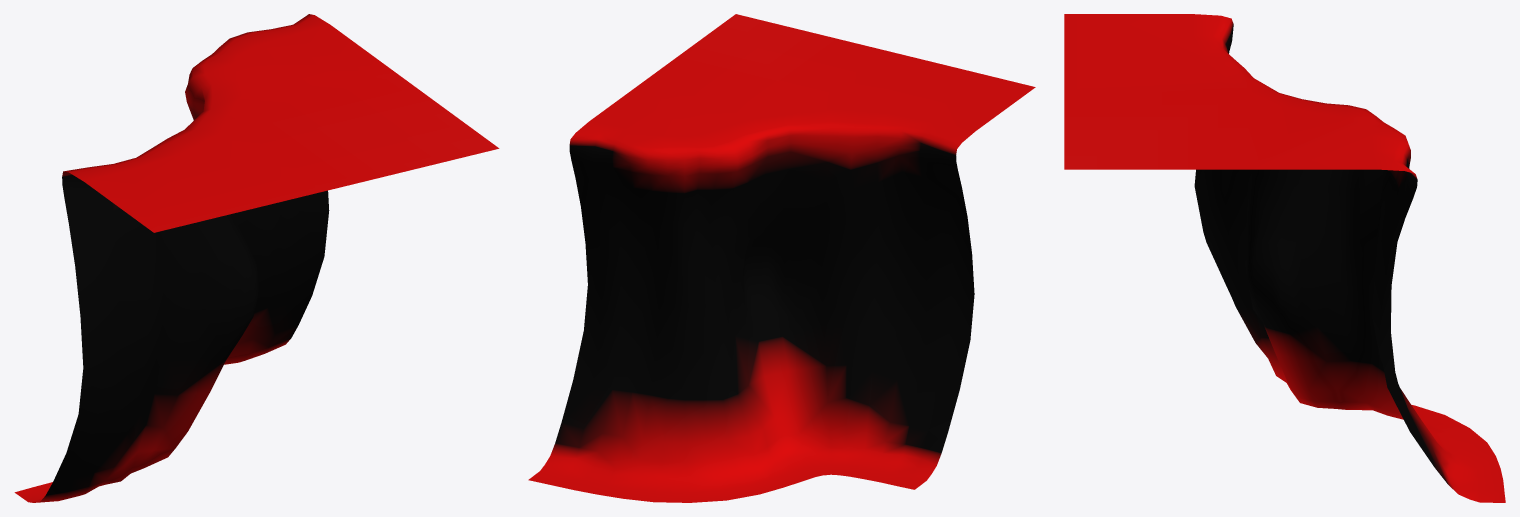
Rendered from GroundCliff05D 2M Background.fbx.
3 views of the same model, side by side, from view 1: azimuth 30°, elevation 25°; view 2: azimuth 150°, elevation 25°; view 3: azimuth 270°, elevation 25° (orthographic). The views are drawn at different scales.
Visible parts, largest first — view 1: GroundCliff05D 2M Background; view 2: GroundCliff05D 2M Background; view 3: GroundCliff05D 2M Background.
Boxes of the visible parts, bbox=[...] form: GroundCliff05D 2M Background: bbox=[14, 14, 499, 502]; GroundCliff05D 2M Background: bbox=[528, 14, 1035, 502]; GroundCliff05D 2M Background: bbox=[1064, 14, 1505, 502].
Bounding box in the file's own units: 2 × 2 × 2.4.
